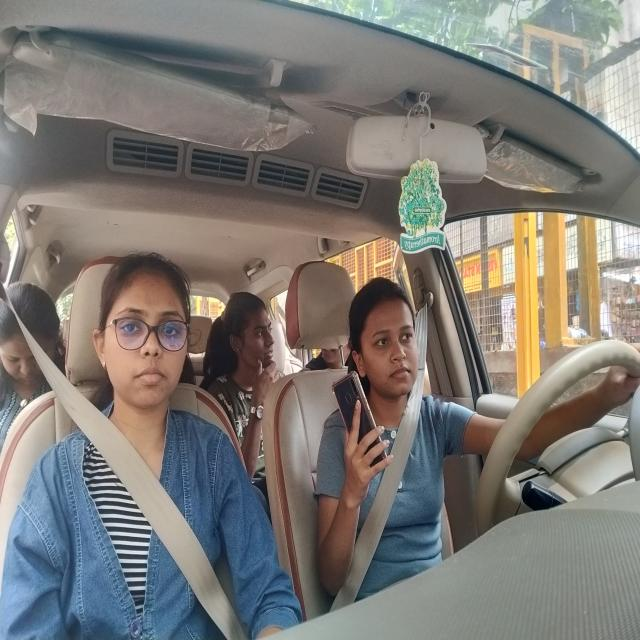mobile: (327, 357, 386, 492)
person: (92, 246, 189, 426), (352, 276, 438, 408), (0, 277, 72, 410), (212, 290, 278, 411)
